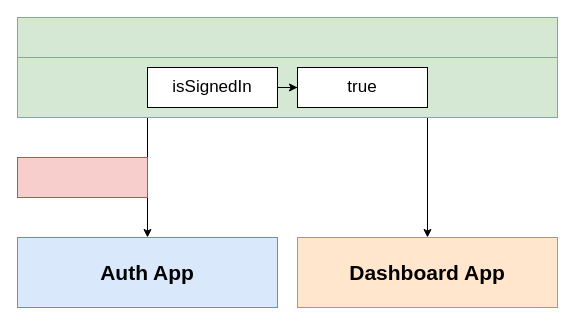
Image size: 575x325. Some labels were removed from this diagram. The shapes that lost their labels are listed below. From the top down, each one's box as (x1, y1, x2, y2) in pixels, then its label:
(16, 16, 558, 58): Container
(16, 156, 148, 198): onAuthChange
